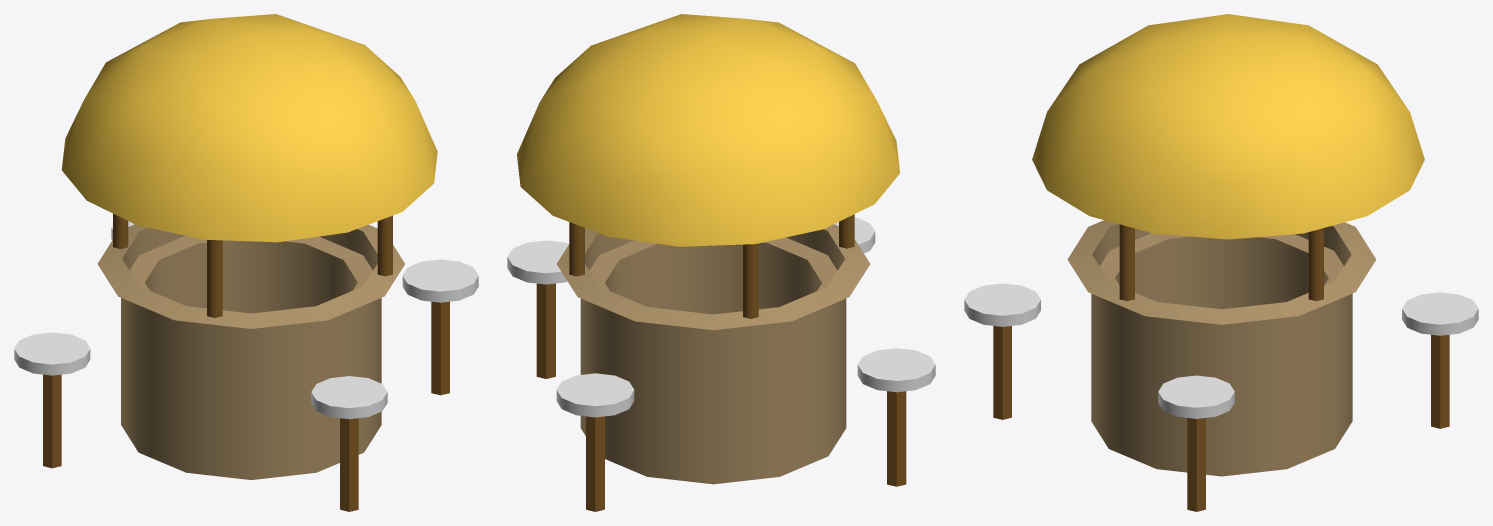
File: quiosque.FBX
3 views of the same model, side by side, from view 1: azimuth 30°, elevation 25°; view 2: azimuth 150°, elevation 25°; view 3: azimuth 270°, elevation 25° (orthographic).
Parts seen in each view (by area): view 1: Praia_Quiosque; view 2: Praia_Quiosque; view 3: Praia_Quiosque.
Part boxes in pixels (x1,y1,x2,y2): Praia_Quiosque: [14, 14, 478, 511]; Praia_Quiosque: [507, 14, 935, 511]; Praia_Quiosque: [964, 14, 1478, 511].
Bounding box in the file's own units: 2.16 × 2.22 × 1.84.
